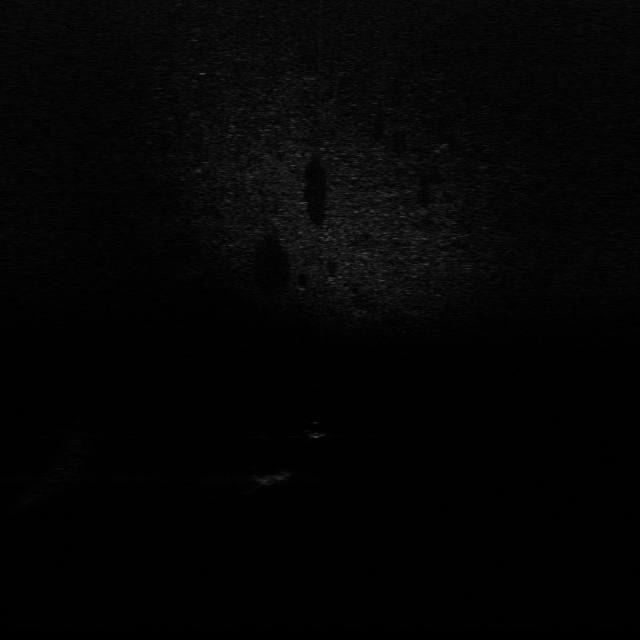ball: (300, 418, 330, 439)
square cage: (254, 463, 302, 488)
